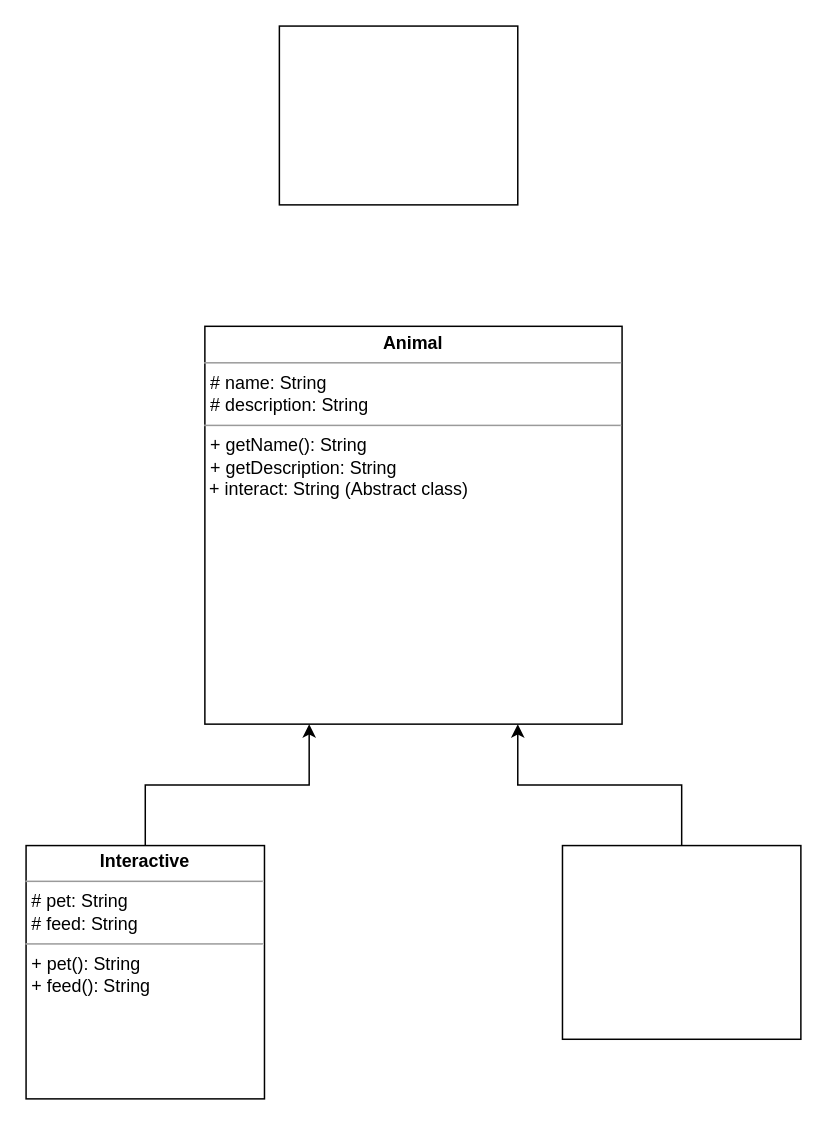
This 827x1125 diagram has some shape labels left out. Each missing label, with the centre of its shape:
"Non interactive # image(): String + observe(): Void" goes at pixel 681 941.
"Tour - animals: Array - name: String + goOnTour(): Void" goes at pixel 398 115.
